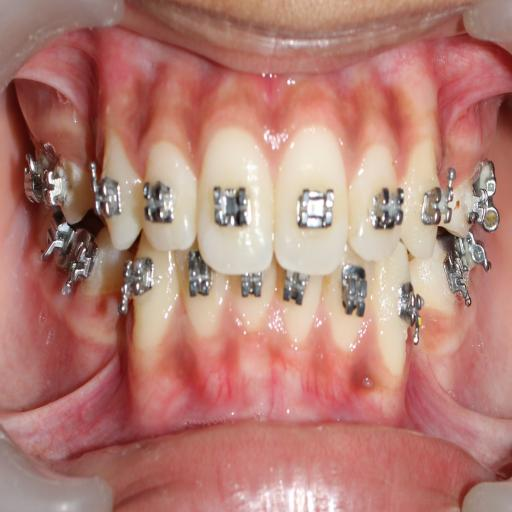correct_brace: (276, 130, 348, 264), (292, 175, 337, 239), (368, 179, 408, 236), (212, 176, 250, 231), (140, 173, 175, 230), (421, 181, 456, 235), (91, 170, 123, 217)
incorrect_brace: (346, 138, 405, 263), (141, 142, 197, 252)
